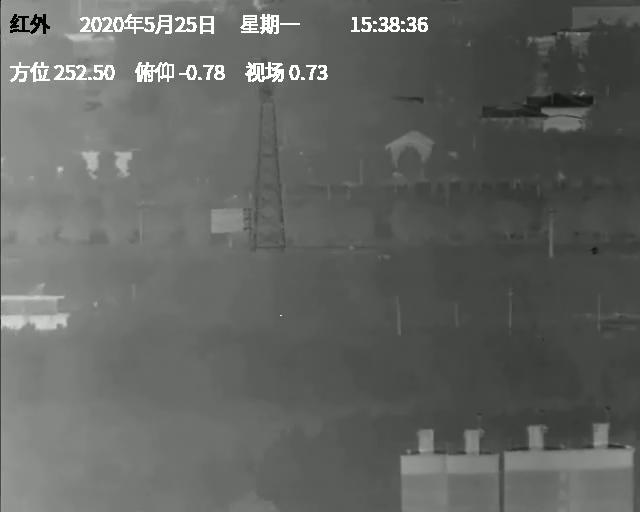uav: (348, 245, 356, 252)
